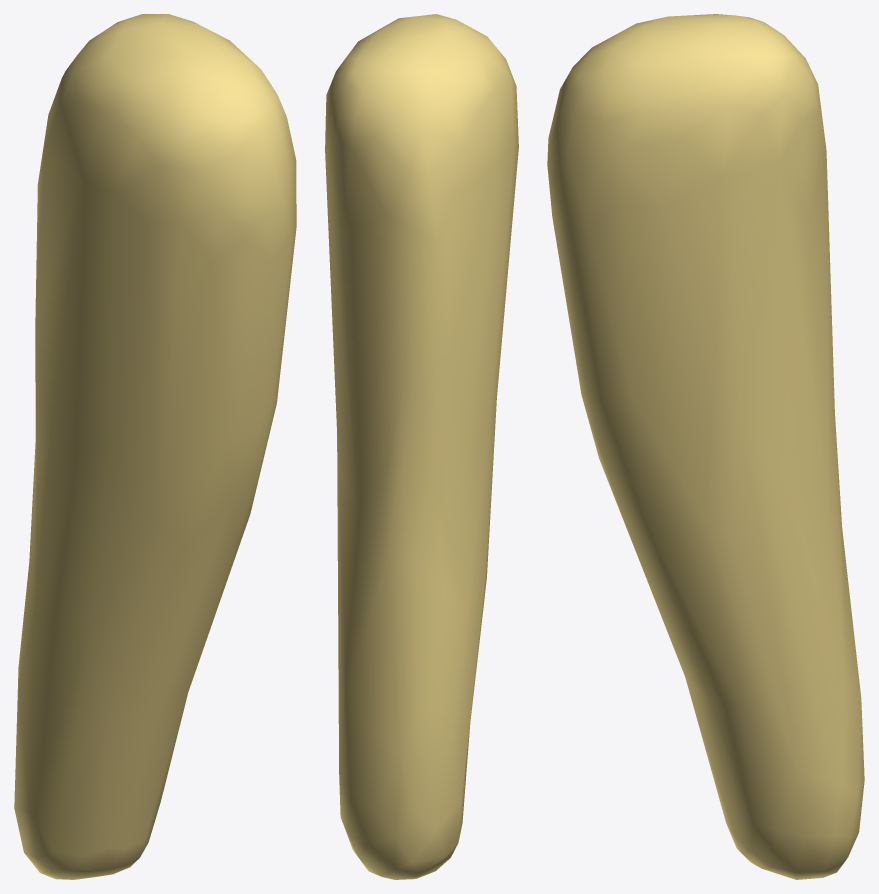
3 renders of one model, left to right at view 1: azimuth 30°, elevation 25°; view 2: azimuth 150°, elevation 25°; view 3: azimuth 270°, elevation 25°, orthographic. The views are drawn at different scales.
Visible parts, largest first — view 1: ZA_9701f1e1d5e04059; view 2: ZA_9701f1e1d5e04059; view 3: ZA_9701f1e1d5e04059.
Part boxes in pixels (left/top/right/bottom): ZA_9701f1e1d5e04059: left=14, top=14, right=296, bottom=879; ZA_9701f1e1d5e04059: left=325, top=14, right=518, bottom=879; ZA_9701f1e1d5e04059: left=547, top=14, right=864, bottom=879.
Bounding box in the file's own units: 0.004 × 0.0184 × 0.0061.
